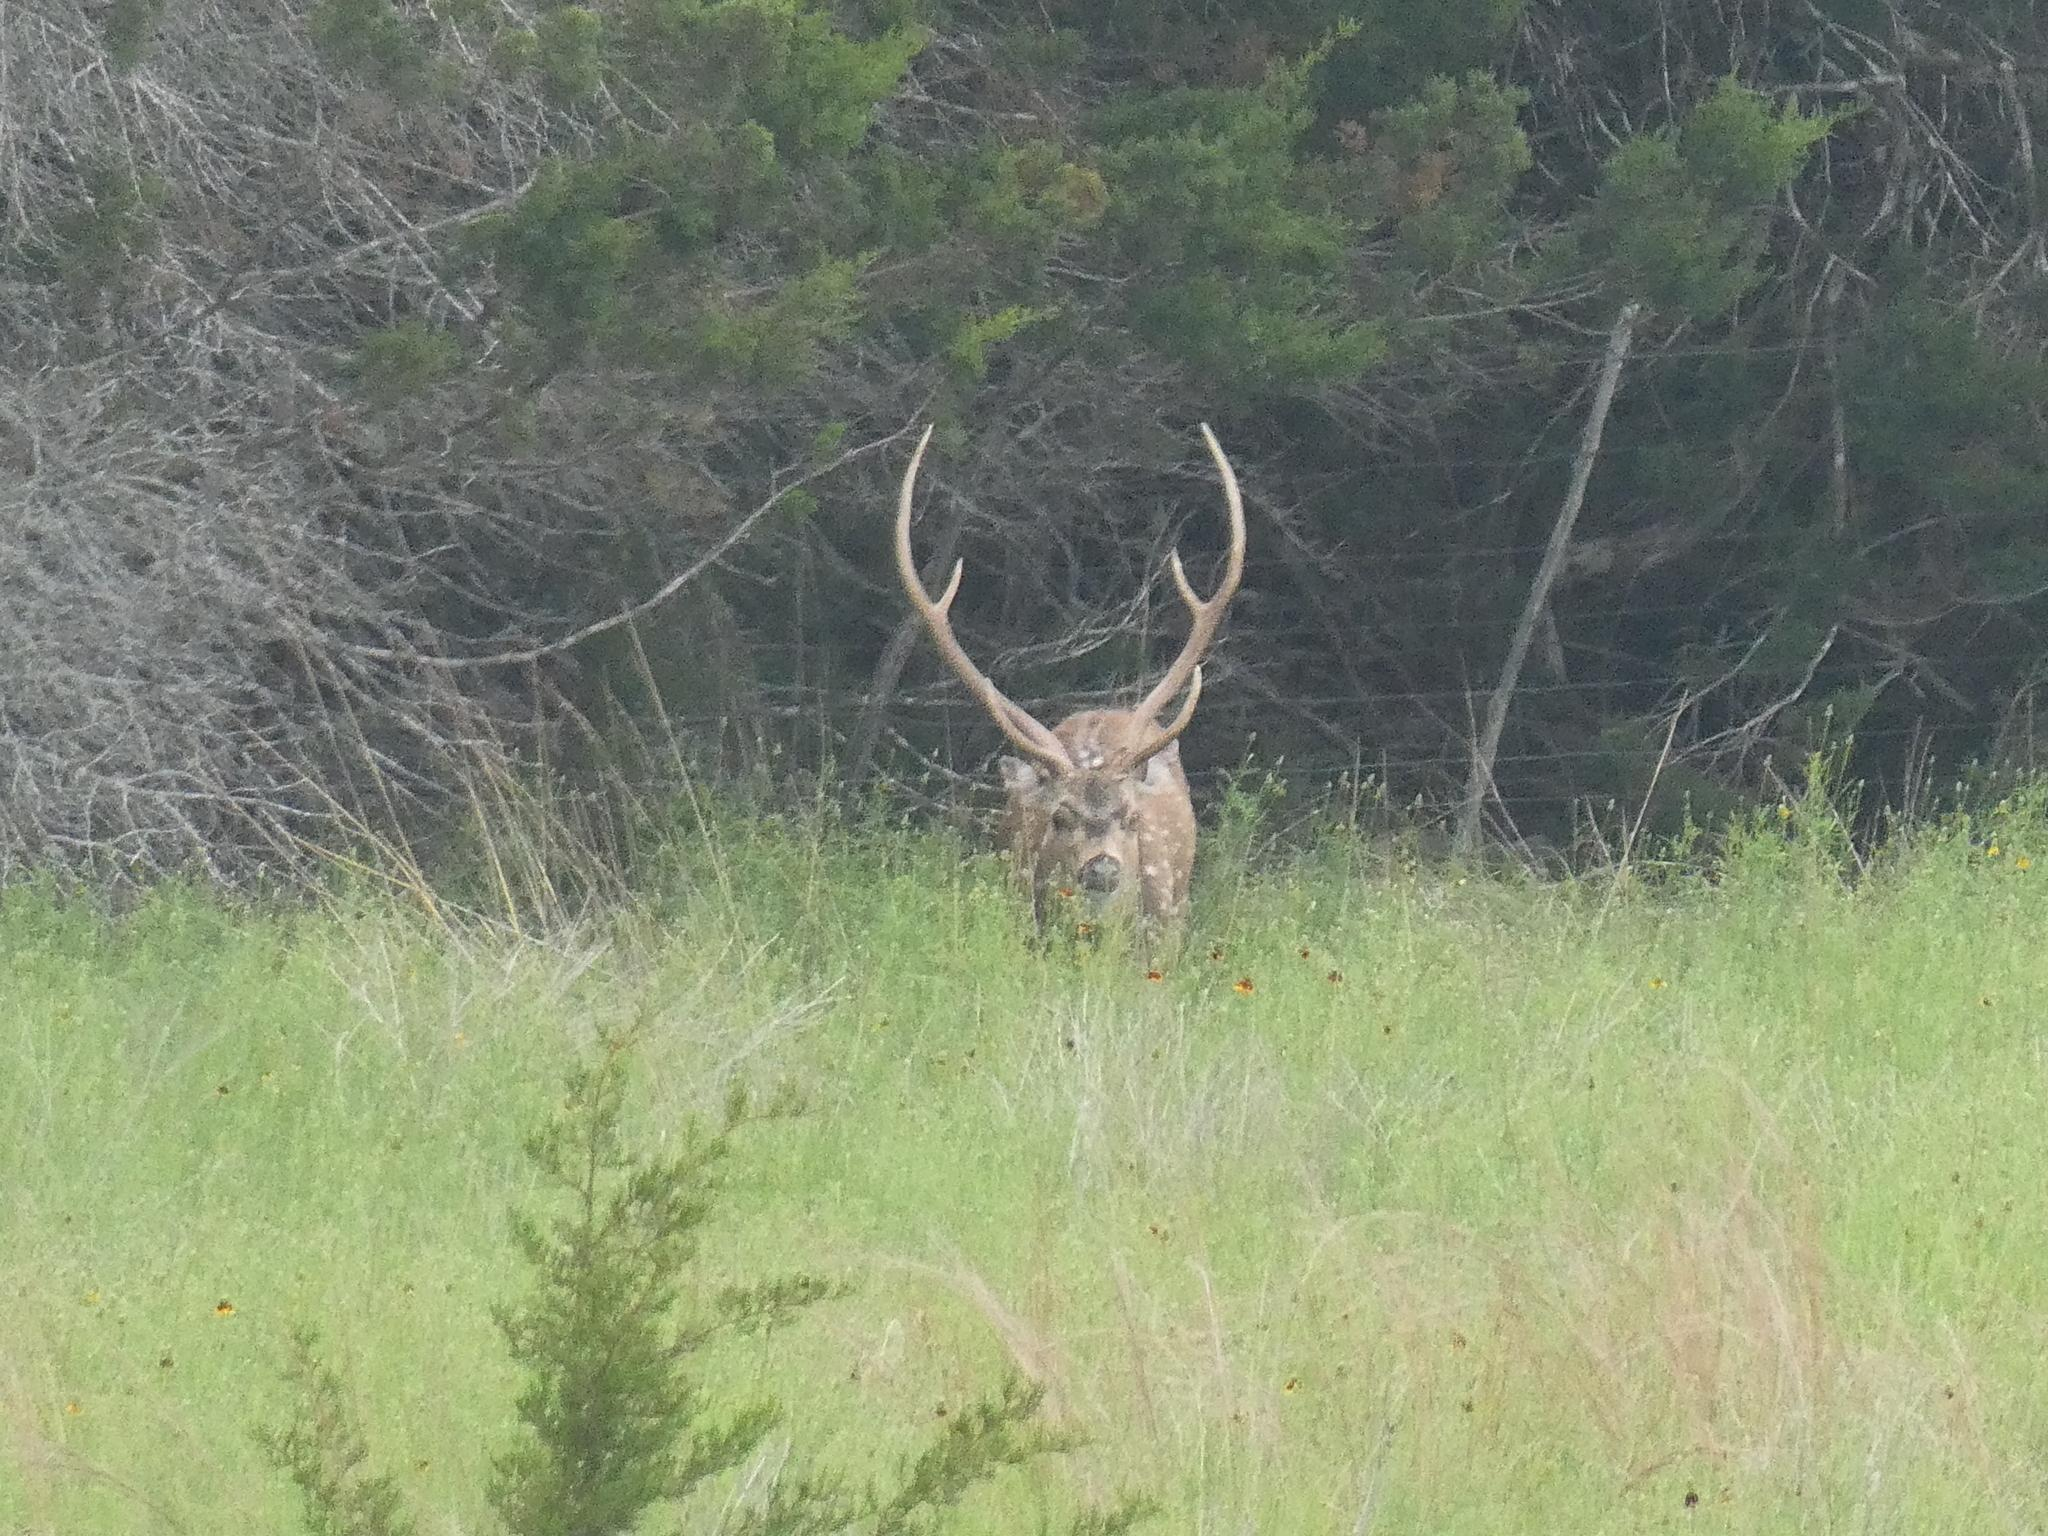Deer: (897, 432, 1245, 925)
